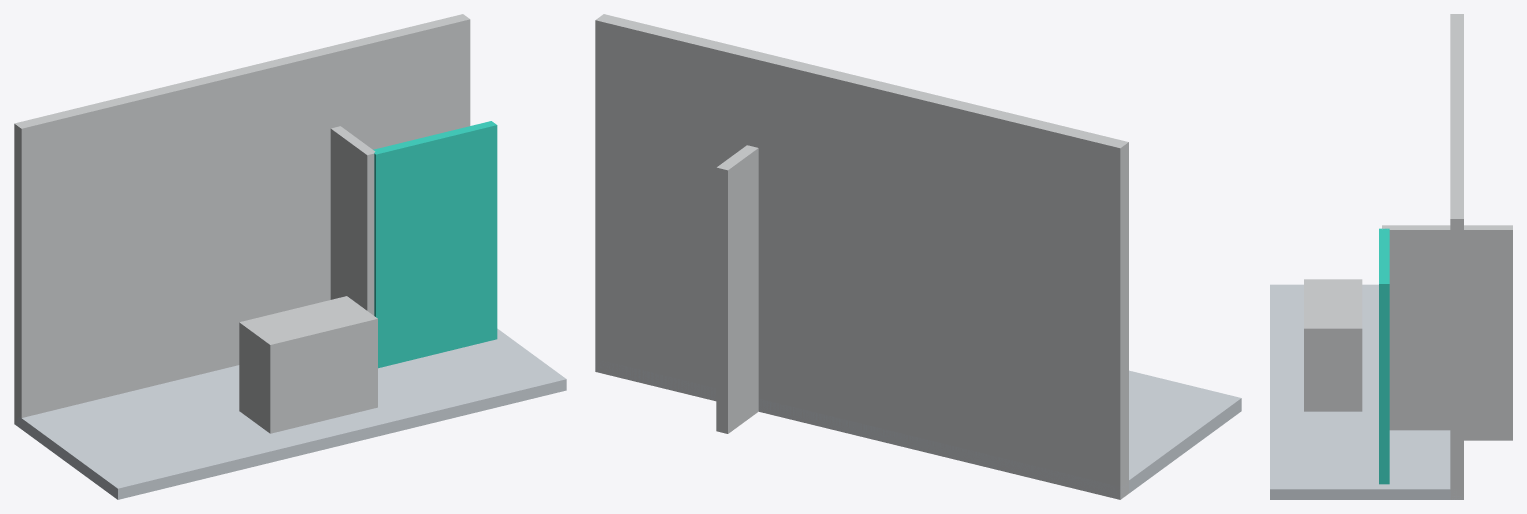
3 renders of one model, left to right at view 1: azimuth 30°, elevation 25°; view 2: azimuth 150°, elevation 25°; view 3: azimuth 270°, elevation 25°, orthographic. The views are drawn at different scales.
Visible parts, largest first — view 1: Exhibition Booth Concept; view 2: Exhibition Booth Concept; view 3: Exhibition Booth Concept.
Boxes of the visible parts, x1=… form: Exhibition Booth Concept: x1=14, y1=14, x2=566, y2=499; Exhibition Booth Concept: x1=595, y1=14, x2=1241, y2=499; Exhibition Booth Concept: x1=1270, y1=14, x2=1512, y2=499.
Bounding box in the file's own units: 5 × 3.2 × 2.5.
